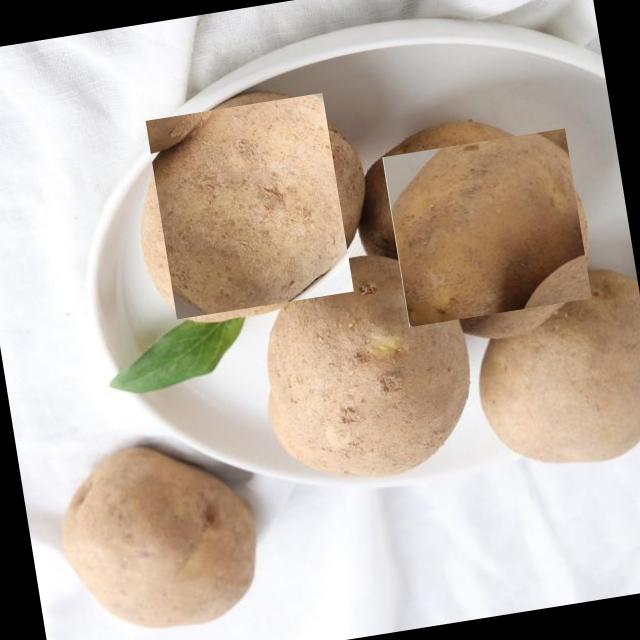potato: (145, 92, 354, 320), (262, 261, 475, 474), (386, 125, 590, 329)
